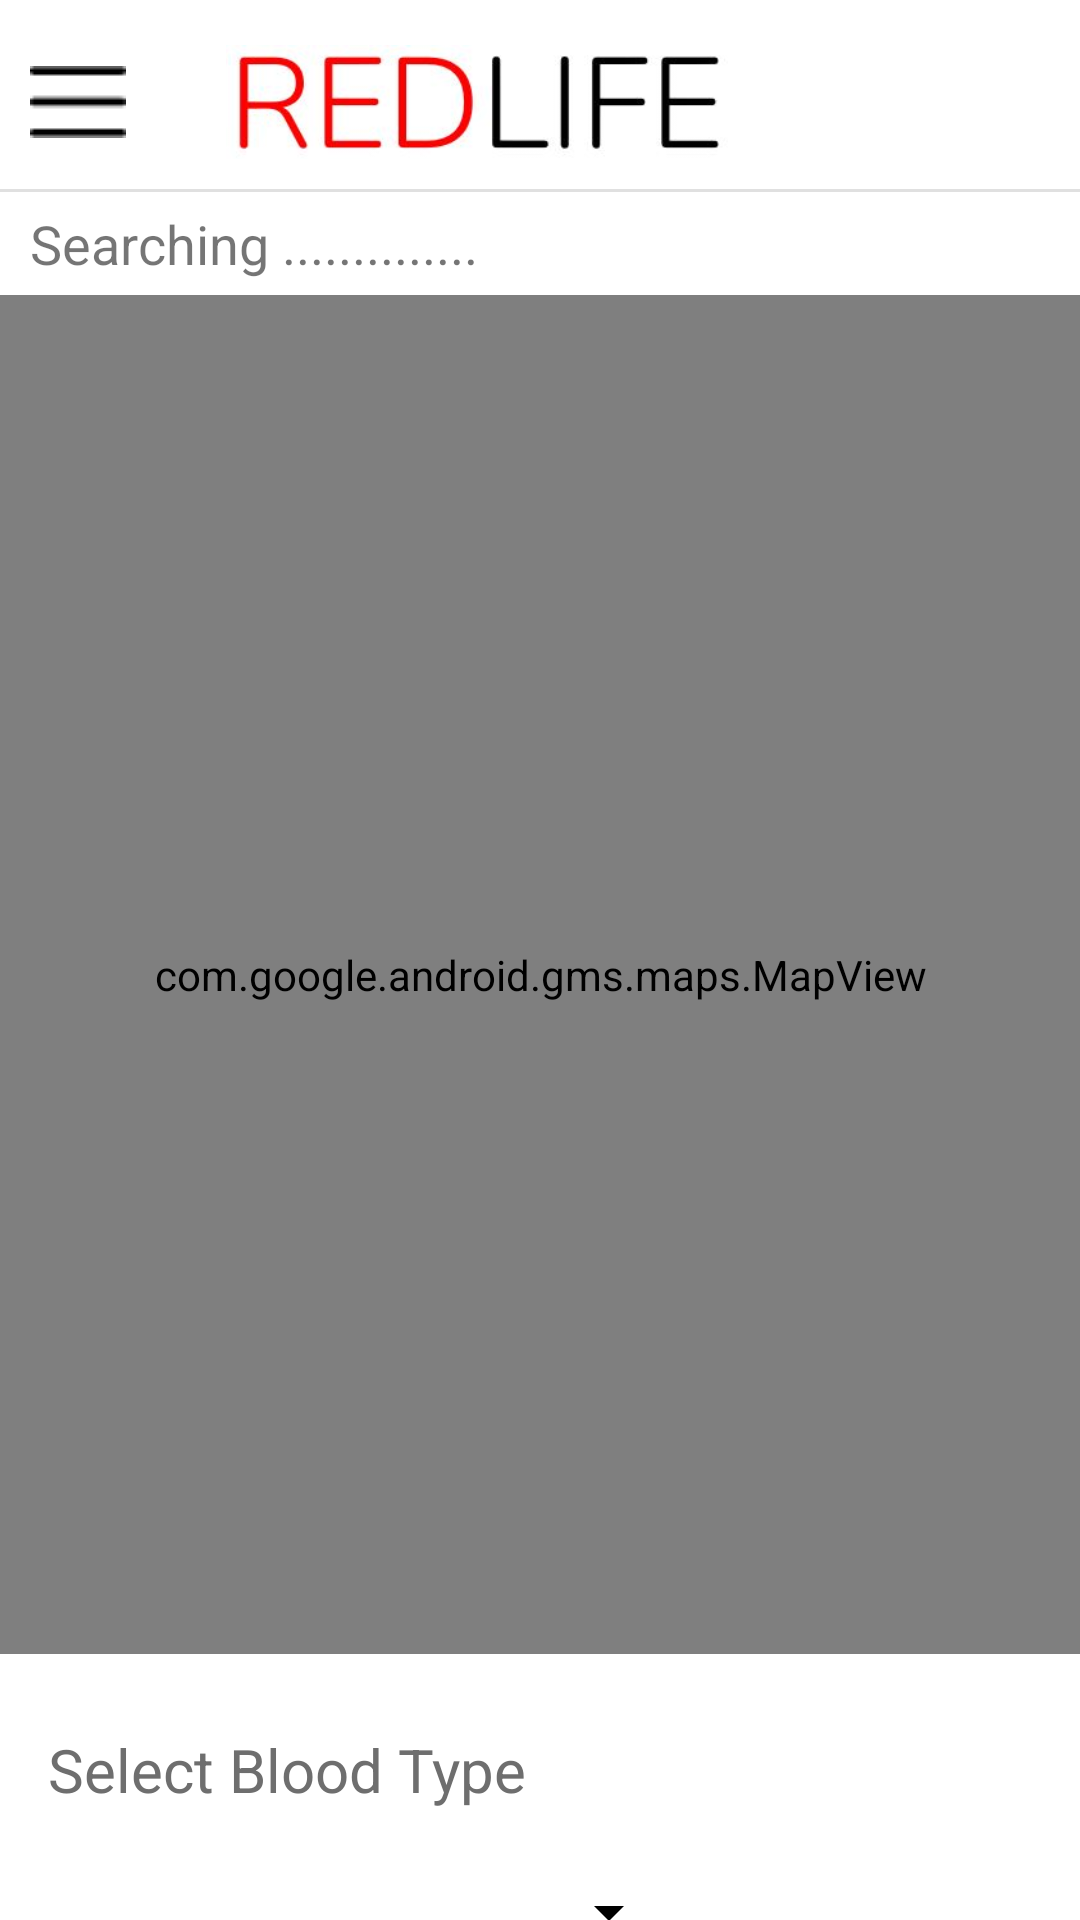

Icons on this 1080px×1920px Android screen, each with its box as (x1, y1, x2, y2):
ham: (30, 66, 126, 138)
